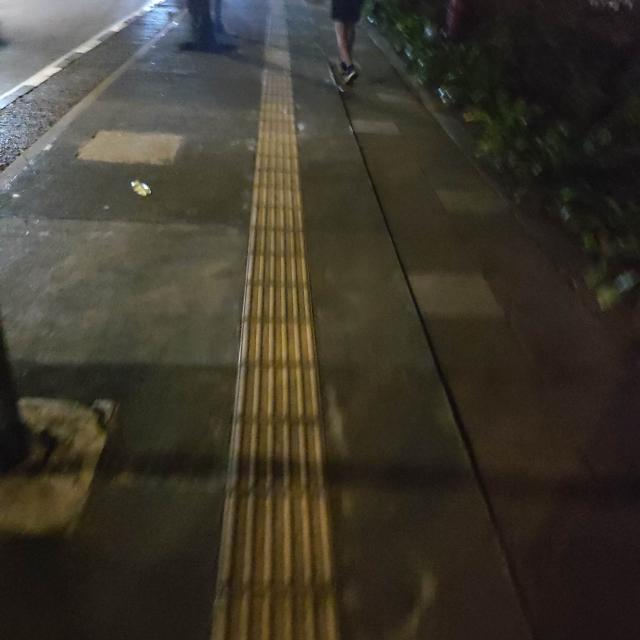lurus: (236, 81, 332, 640)
